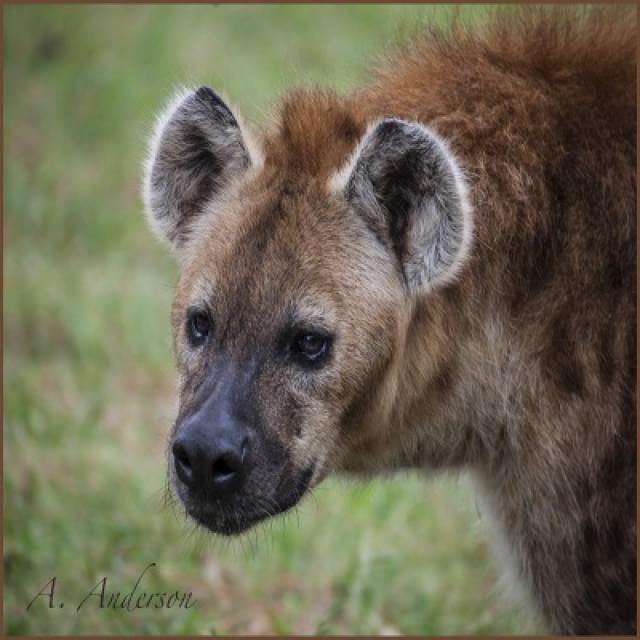hyena: (144, 13, 634, 632)
